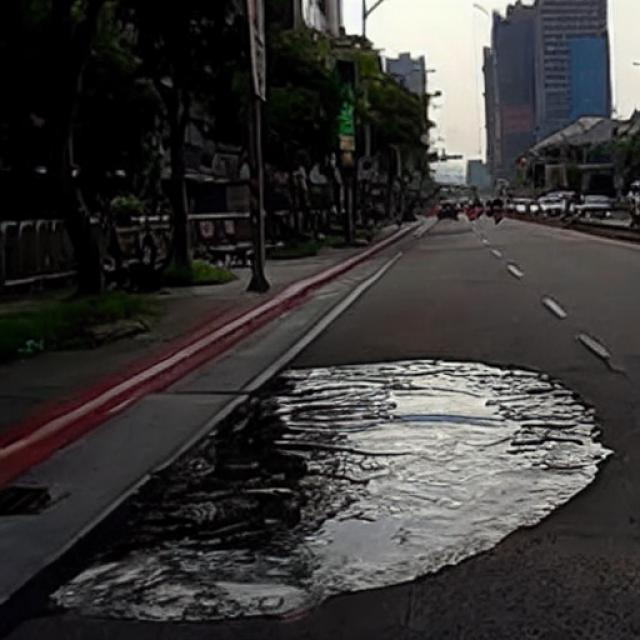puddle: (48, 359, 611, 619)
